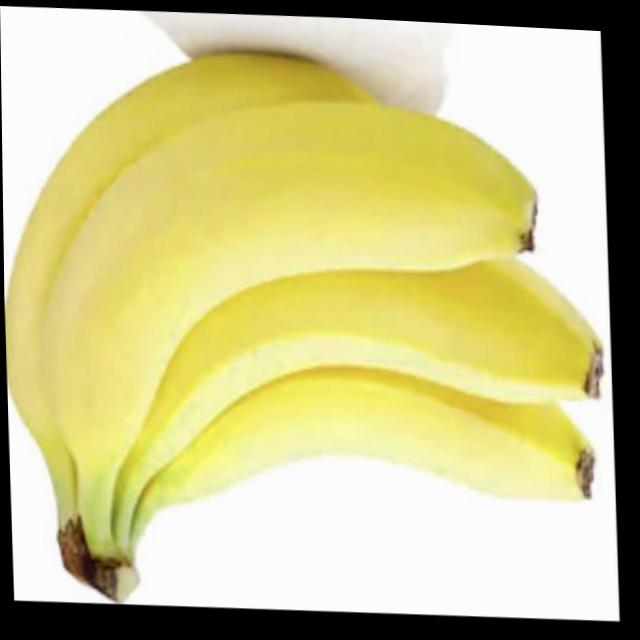Banana: (0, 32, 610, 623)
